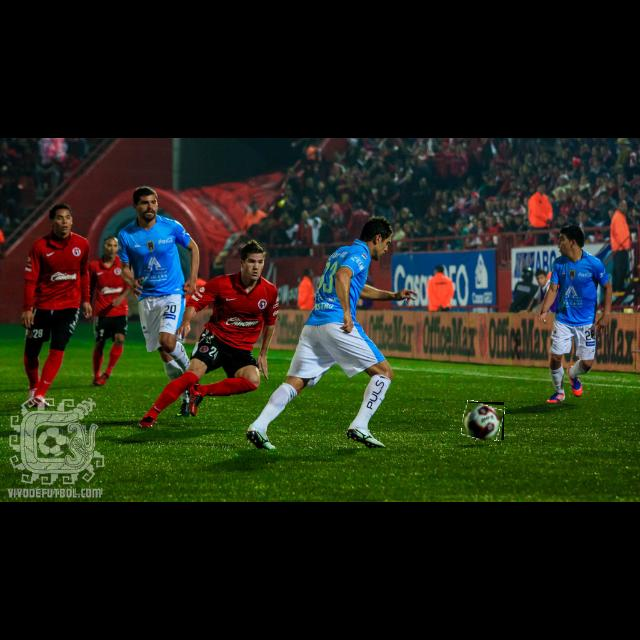Football: (462, 402, 504, 440)
